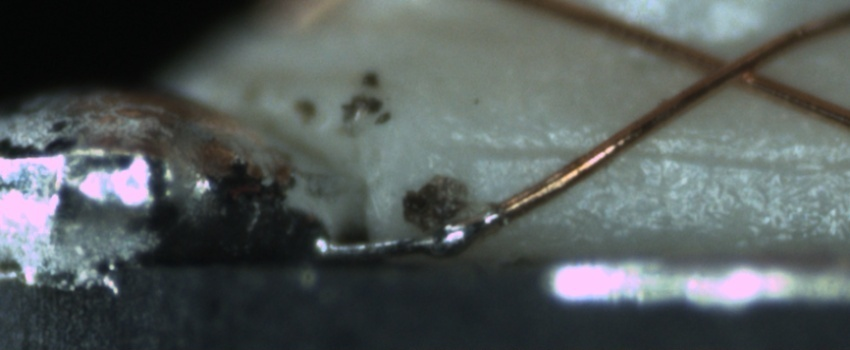CL: (689, 35, 782, 94)
DL: (450, 127, 849, 186)
TB: (428, 221, 481, 256)
TS: (323, 207, 506, 256)
TTCW: (314, 162, 579, 266)
